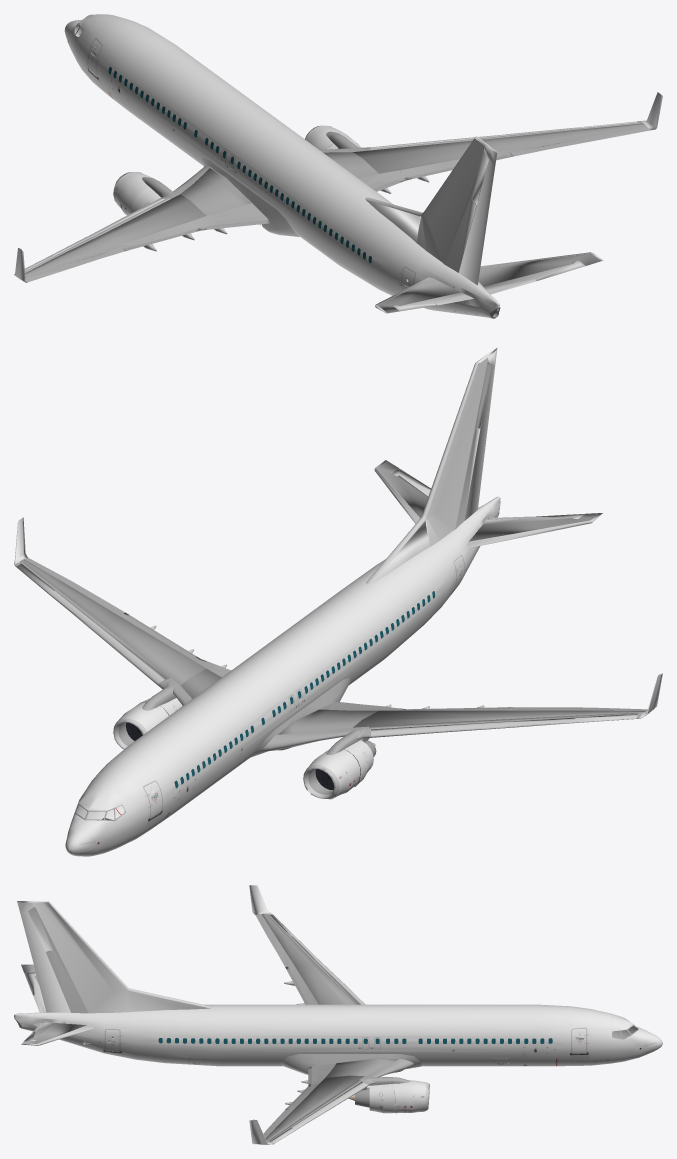
3 renders of one model, top to bottom at view 1: azimuth 30°, elevation 25°; view 2: azimuth 150°, elevation 25°; view 3: azimuth 270°, elevation 25°, orthographic. The views are drawn at different scales.
Parts seen in each view (by area): view 1: EexitLF, Circle_006, engnose_001; view 2: EexitLF, Circle_006, engnose_001; view 3: EexitLF, Circle_006, engnose_001.
Part boxes in pixels (box(x1,y1,x2,y2)): EexitLF: box(64, 14, 500, 318); Circle_006: box(24, 23, 650, 318); engnose_001: box(14, 92, 662, 285); EexitLF: box(65, 496, 500, 856); Circle_006: box(15, 362, 647, 821); engnose_001: box(14, 348, 662, 799); EexitLF: box(14, 1004, 662, 1066); Circle_006: box(14, 901, 638, 1144); engnose_001: box(17, 885, 425, 1144).
Bounding box in the file's own units: 34.85 × 12.12 × 40.62.
Materials: 3 (3 with a texture image).
